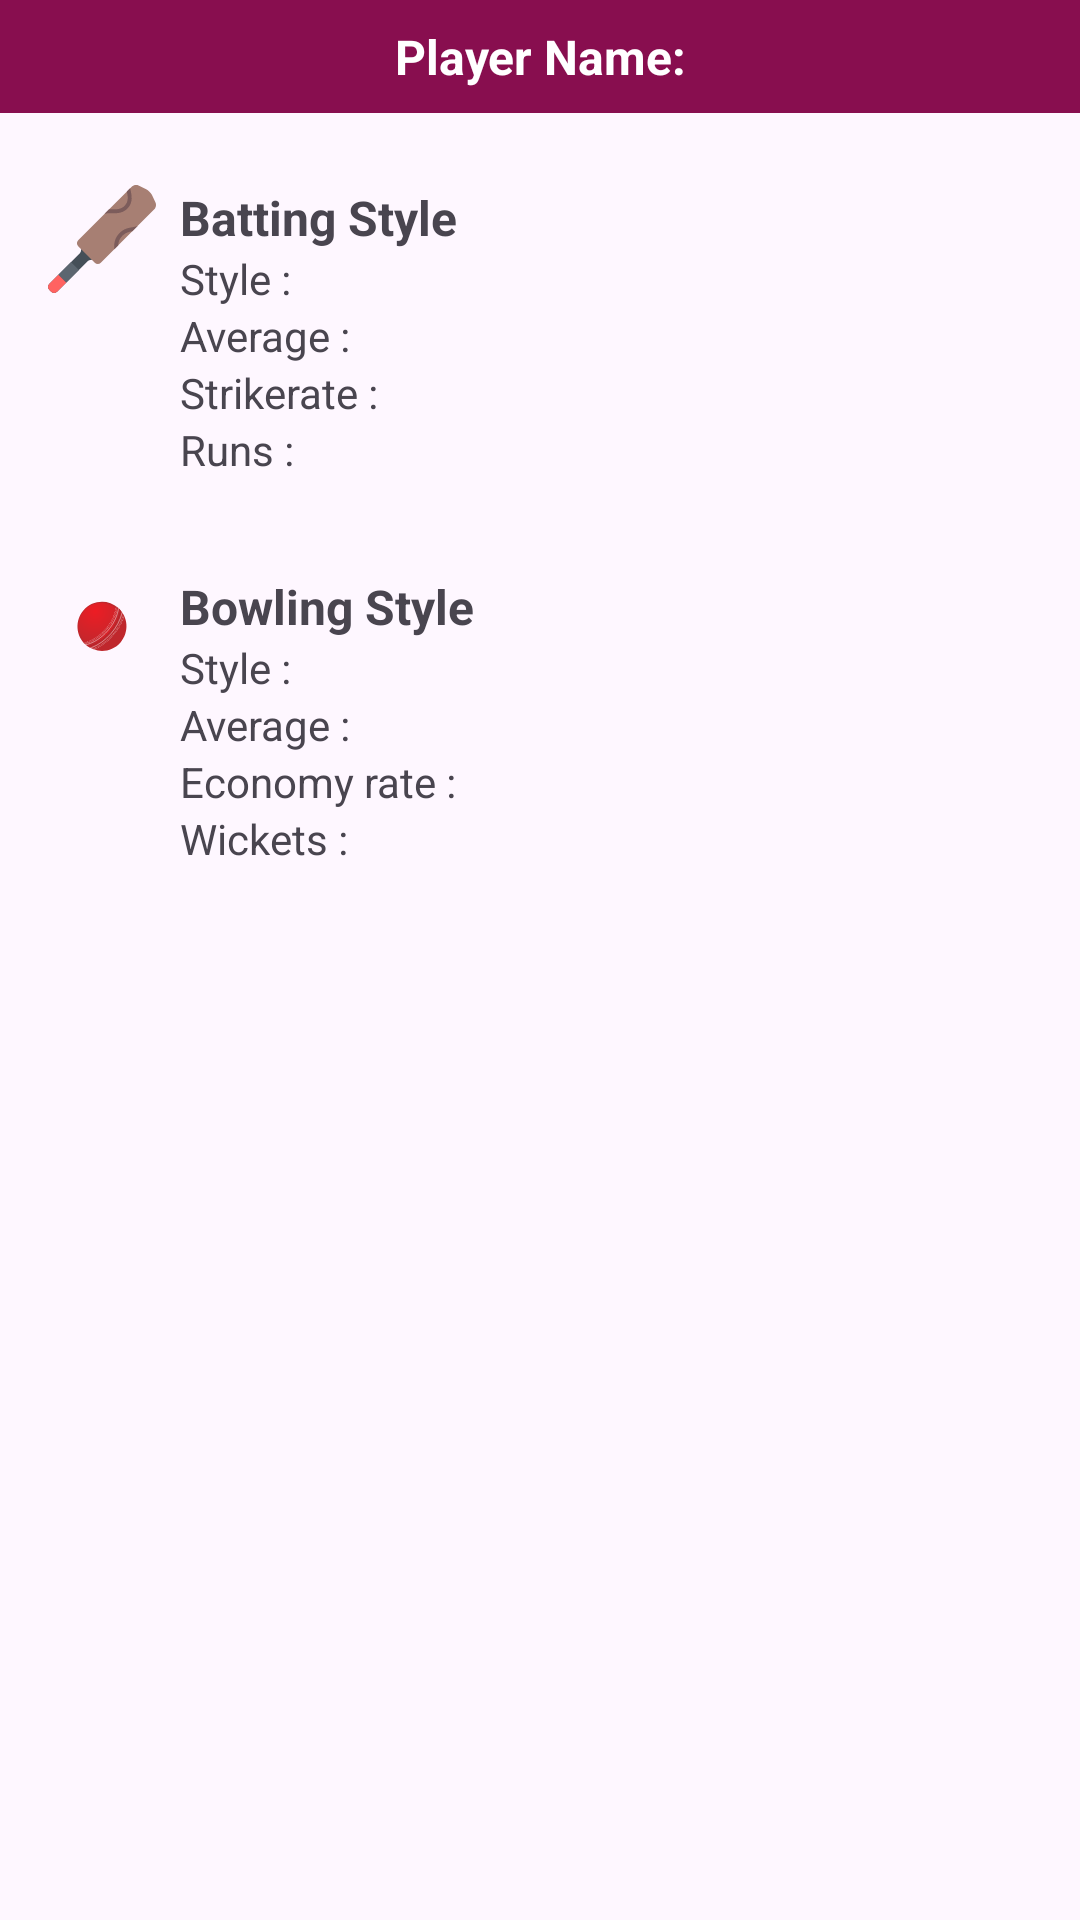

Point at icon controls on the screen. Image size 1080w x 1920h, points as [x,y].
cricket ball: [102,626]
cricket bat: [102,239]
